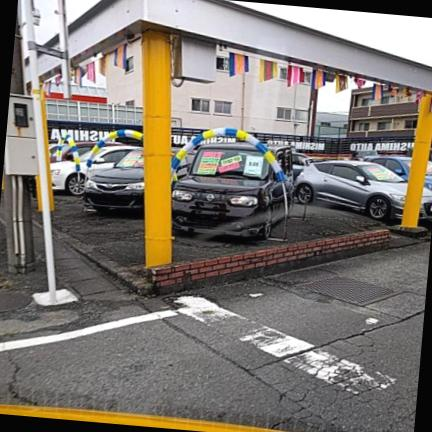Road: (0, 243, 429, 431)
